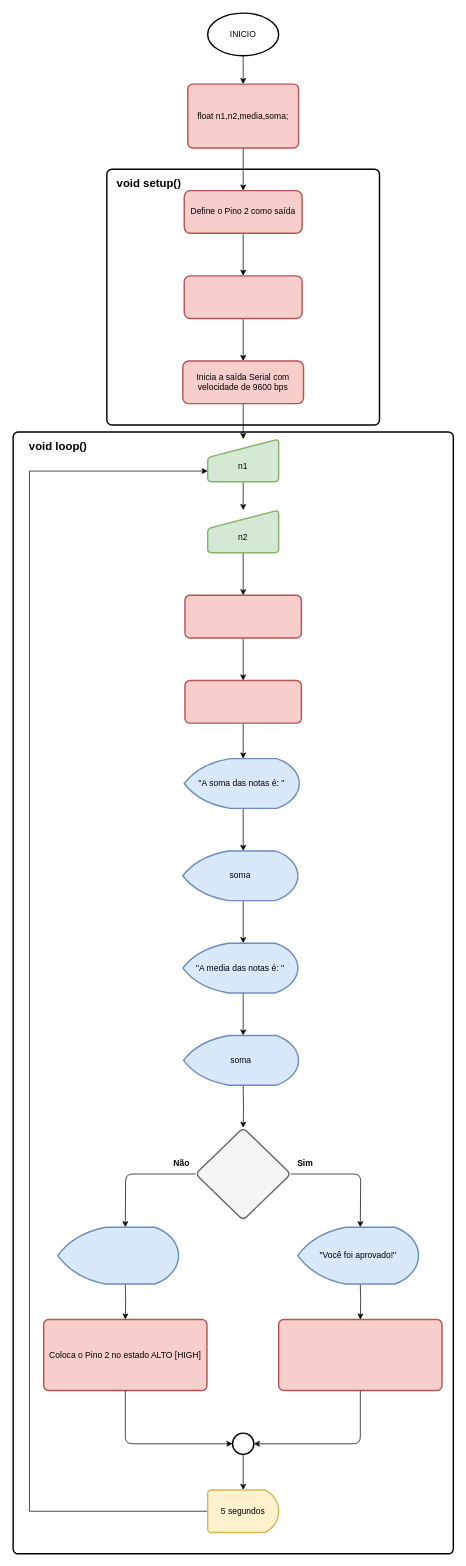
Some shapes in this 466 by 1566 pixel diagram are drawn without their labels. The shapes that lost their labels are listed below. From the top down, each one's centre as x and y in pixels, then its label:
point (242, 297): Define o Pino 3 como saída
point (243, 616): soma = n1+n2;
point (243, 701): media = soma/2;
point (243, 1173): media >= 5
point (118, 1255): "Você foi reprovado!"
point (360, 1354): Coloca o Pino 3 no estado ALTO [HIGH]
